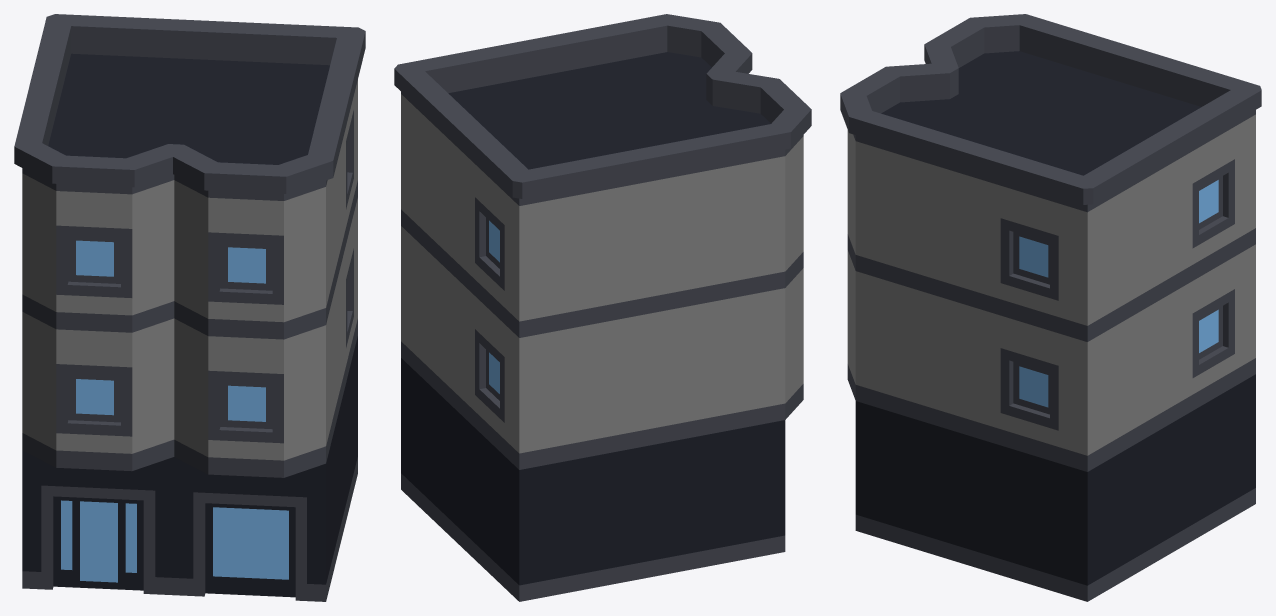
The model's file is variant_20.obj.
3 renders of one model, left to right at view 1: azimuth 30°, elevation 25°; view 2: azimuth 150°, elevation 25°; view 3: azimuth 270°, elevation 25°, orthographic. The views are drawn at different scales.
Parts seen in each view (by area): view 1: Building; view 2: Building; view 3: Building.
Boxes of the visible parts, x1,y1,x2,y2 form: Building: (14, 14, 365, 601); Building: (394, 14, 811, 601); Building: (840, 14, 1261, 601).
Size of the model in its own units: 1.15 by 1.28 by 1.18.
